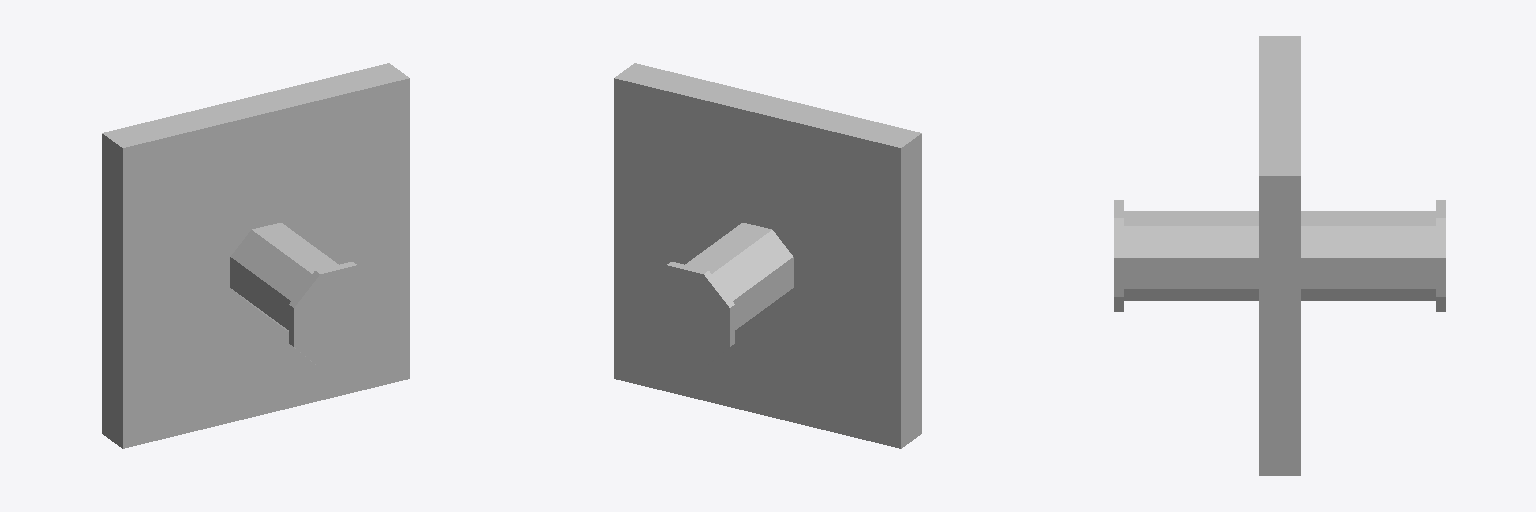
File: pipeworks_entry_panel_lowpoly.obj
The picture shows the model from 3 angles: view 1: azimuth 30°, elevation 25°; view 2: azimuth 150°, elevation 25°; view 3: azimuth 270°, elevation 25°; orthographic projection.
Parts seen in each view (by area): view 1: Cylinder.000; view 2: Cylinder.000; view 3: Cylinder.000.
Part boxes in pixels (x1,y1,x2,y2): Cylinder.000: (102, 63, 409, 448); Cylinder.000: (614, 63, 921, 448); Cylinder.000: (1114, 36, 1445, 475).
Bounding box in the file's own units: 1 × 1 × 1.